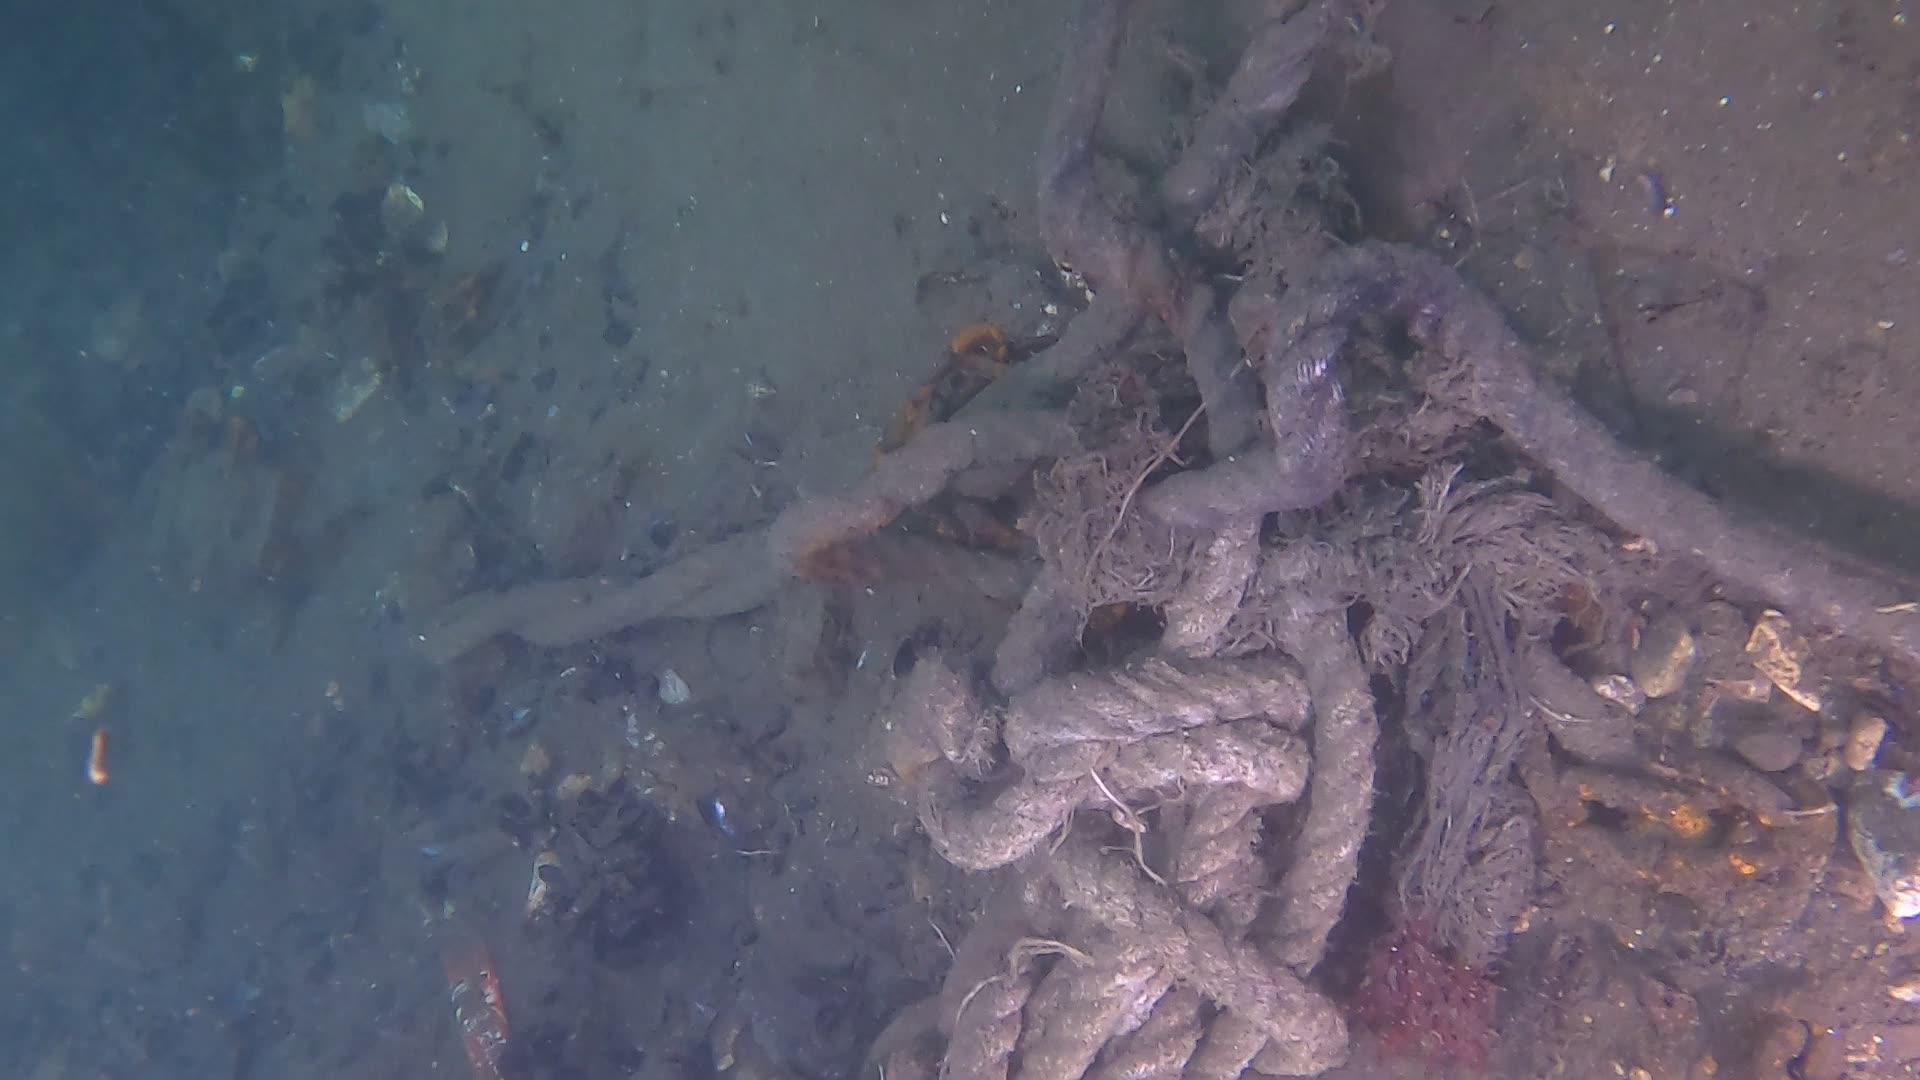bundle of ropes: (398, 0, 1920, 1080)
